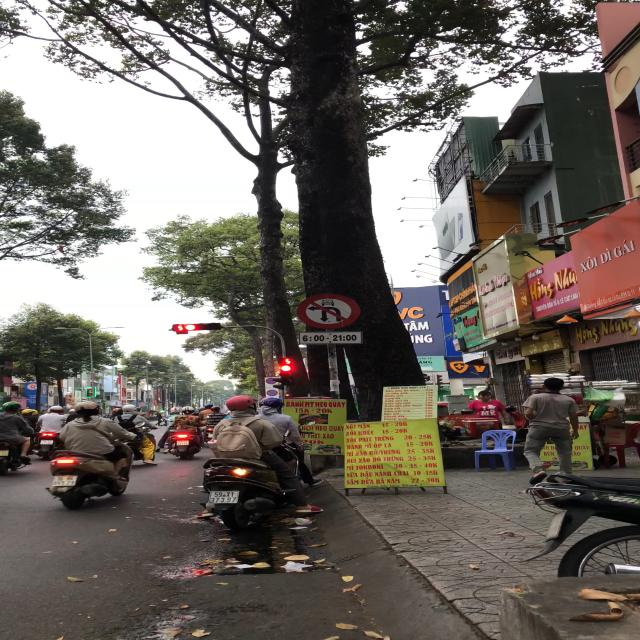Bien bao cam oto re trai va quay dau xe: (292, 293, 363, 333)
